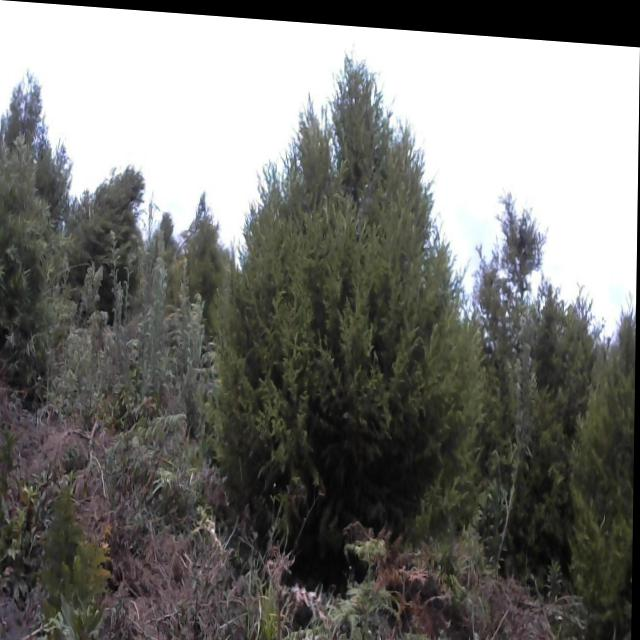cedrus: (232, 48, 478, 593)
